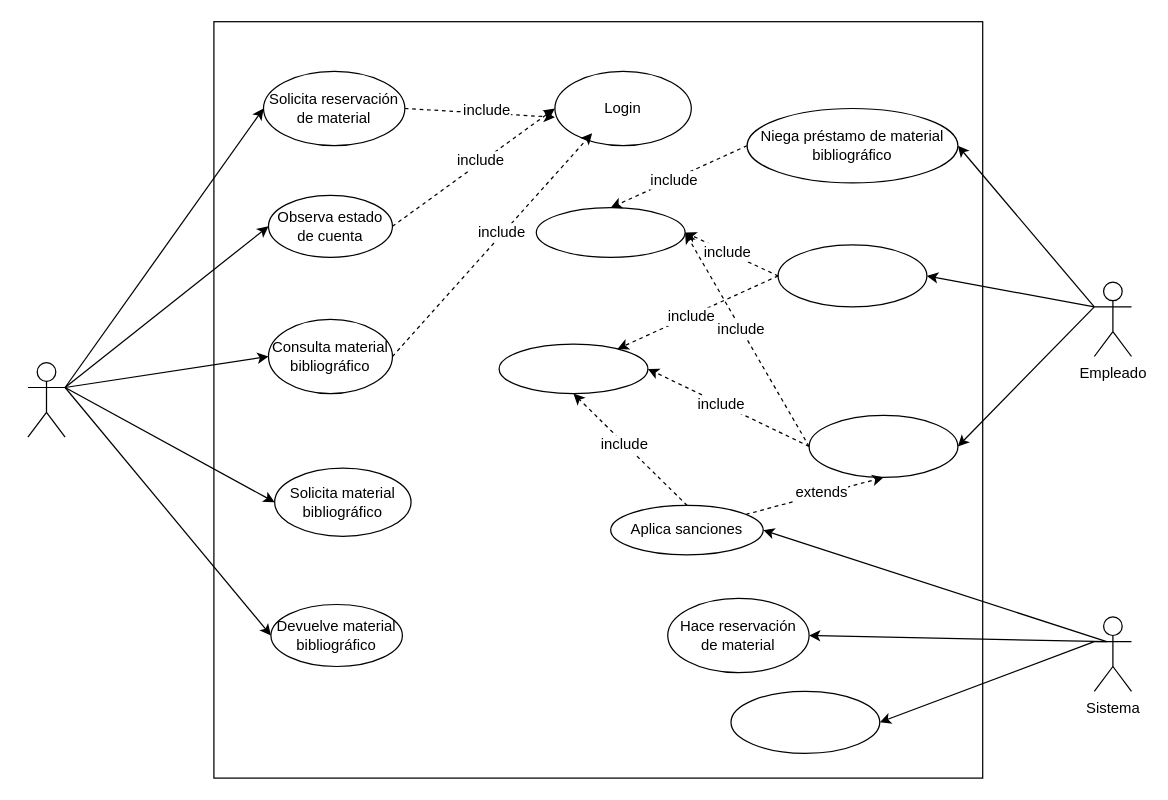
Some shapes in this 1168 by 800 pixel diagram are drawn without their labels. The shapes that lost their labels are listed below. From the top down, each one's box as (x1, y1, x2, y2) in pixels, then its label:
(535, 206, 685, 257): Verifica datos del usuario
(777, 244, 927, 307): Presta material bibliográfico
(498, 343, 648, 394): Actualiza datos del usuario
(27, 361, 65, 437): Usuario
(808, 414, 958, 477): Recibe material bibliográfico
(730, 690, 880, 753): Genera estadísticas
